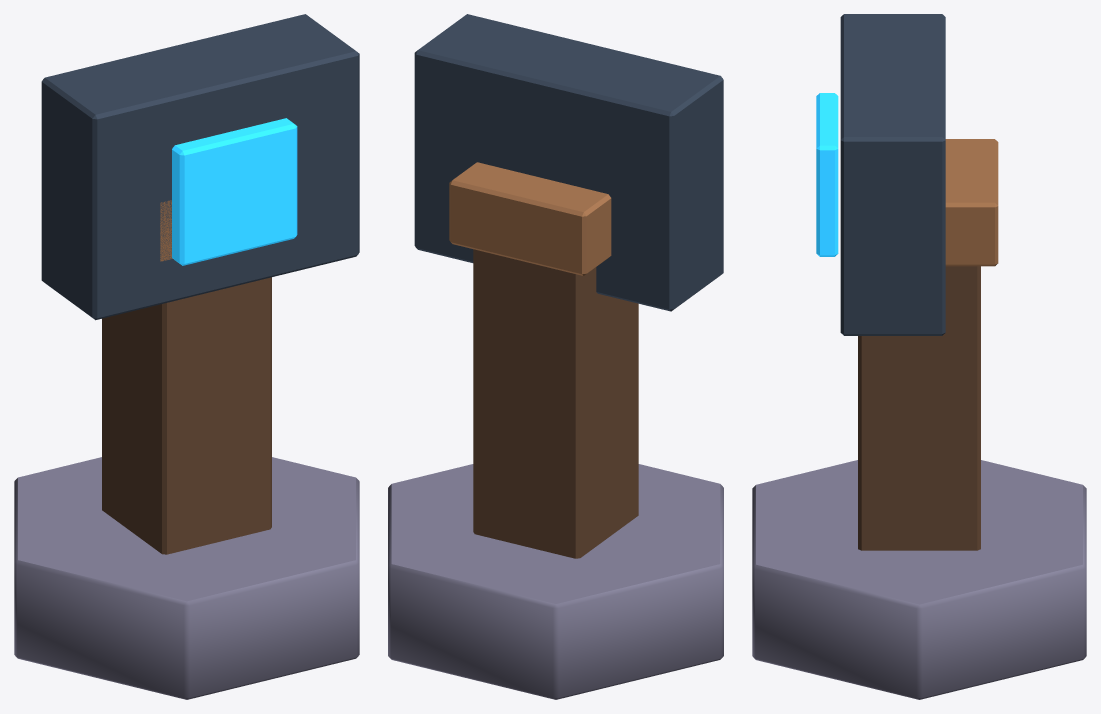
File: base_marker_01.glb
3 renders of one model, left to right at view 1: azimuth 30°, elevation 25°; view 2: azimuth 150°, elevation 25°; view 3: azimuth 270°, elevation 25°, orthographic. The views are drawn at different scales.
Visible parts, largest first — view 1: base_marker_01; view 2: base_marker_01; view 3: base_marker_01.
Boxes of the visible parts, x1,y1,x2,y2 form: base_marker_01: [14, 14, 359, 699]; base_marker_01: [388, 14, 723, 699]; base_marker_01: [752, 14, 1086, 699].
Bounding box in the file's own units: 0.436 × 0.685 × 0.3811.
